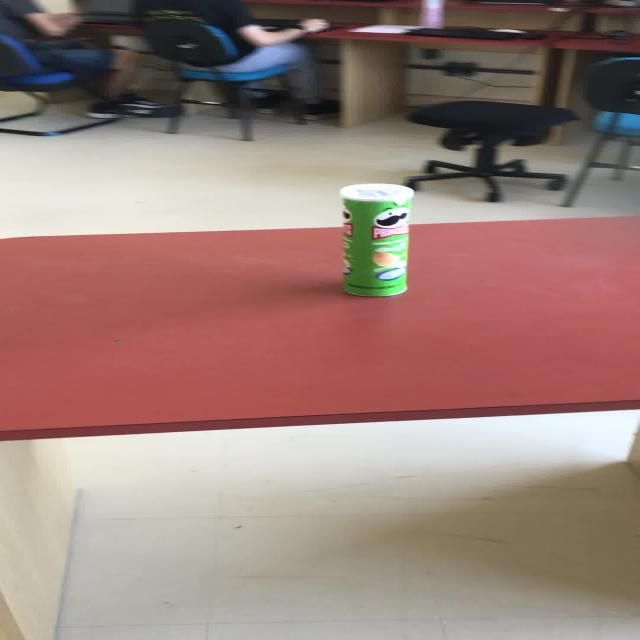pringles: (337, 182, 413, 297)
